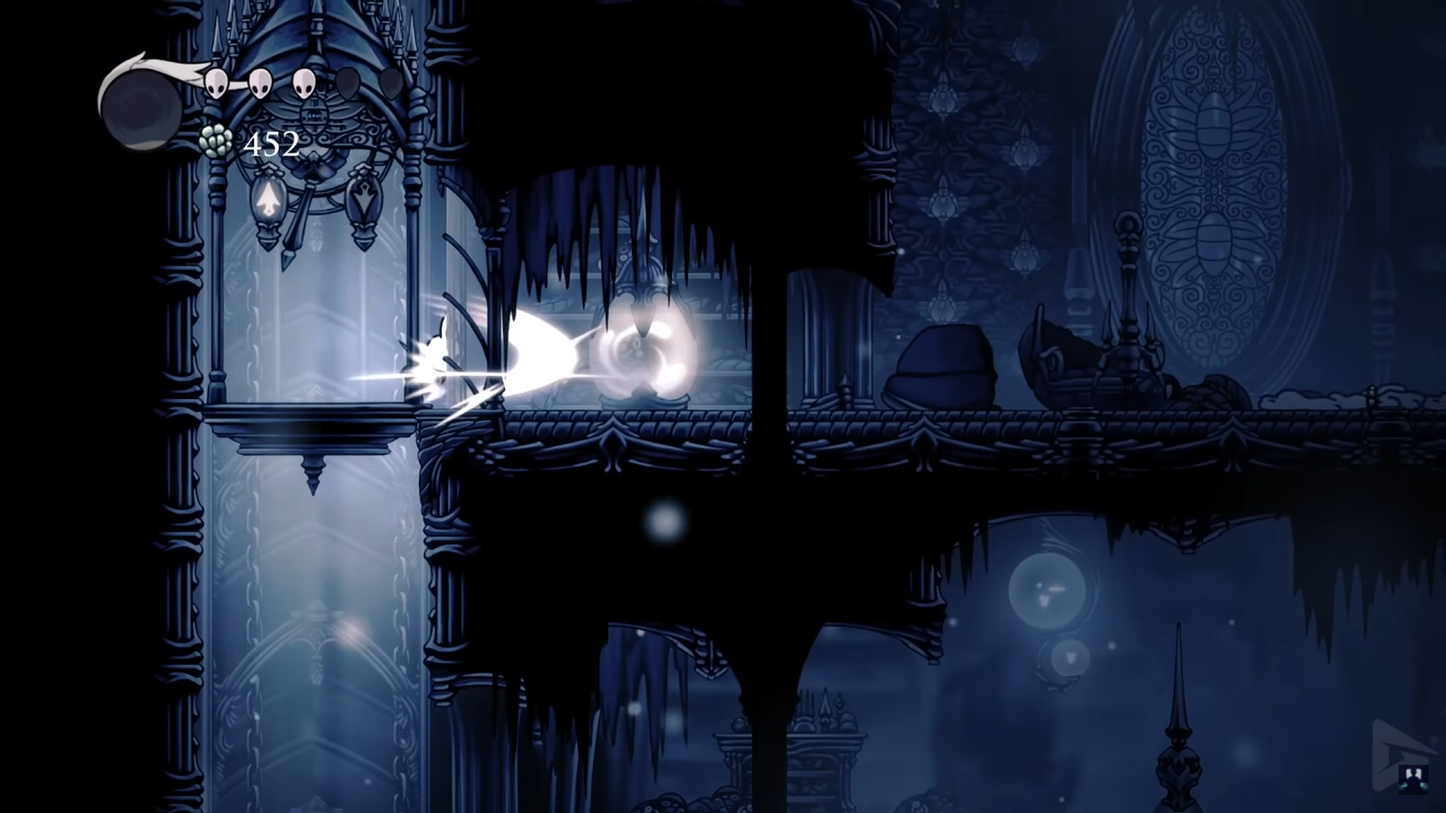HK: (412, 309, 456, 398)
